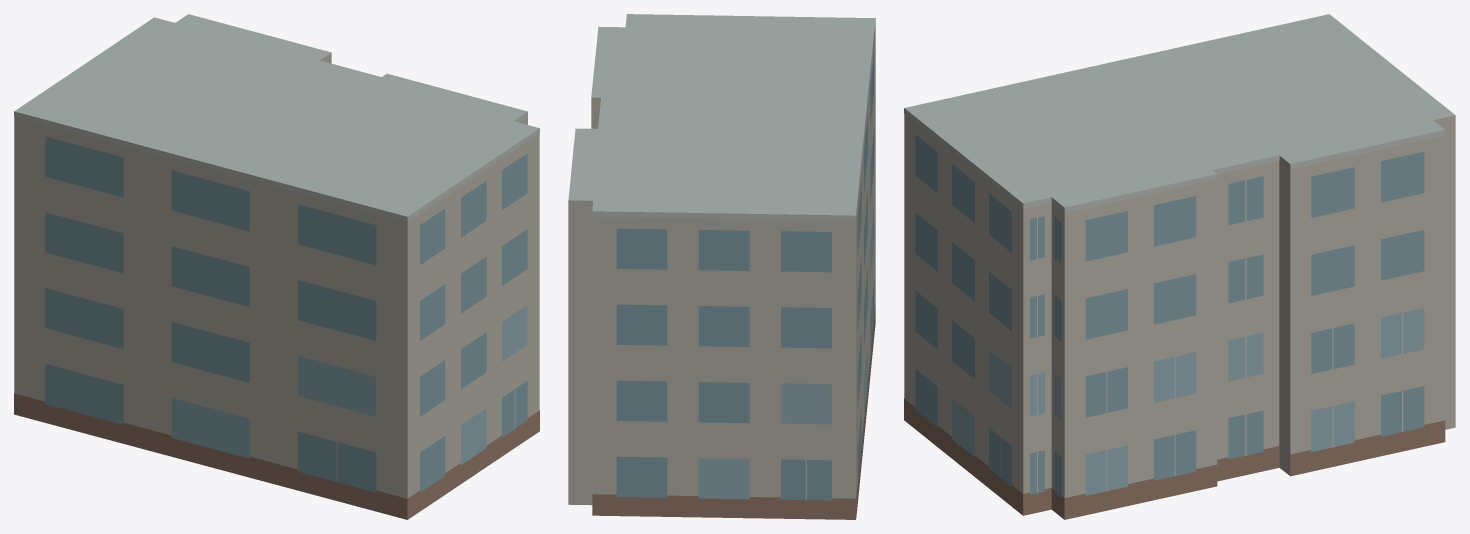
Rendered from survey-upis-32780512.glb.
3 views of the same model, side by side, from view 1: azimuth 30°, elevation 25°; view 2: azimuth 150°, elevation 25°; view 3: azimuth 270°, elevation 25° (orthographic). The views are drawn at different scales.
Parts seen in each view (by area): view 1: survey-upis-32780512.tmp; view 2: survey-upis-32780512.tmp; view 3: survey-upis-32780512.tmp.
Boxes of the visible parts, box(x1,y1,x2,y2) form: survey-upis-32780512.tmp: box(14, 14, 539, 519); survey-upis-32780512.tmp: box(568, 14, 875, 519); survey-upis-32780512.tmp: box(904, 14, 1455, 519).
Size of the model in its own units: 18.23 by 13.7 by 21.94.
